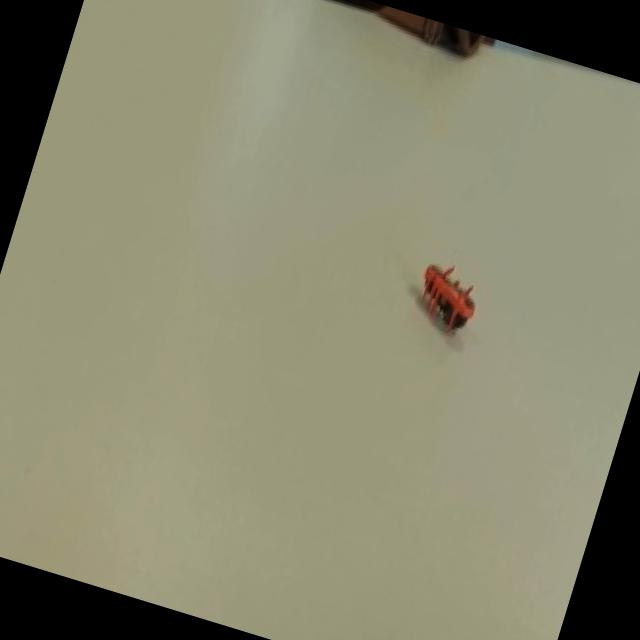7_NanoBug_Naranja: (386, 256, 497, 342)
